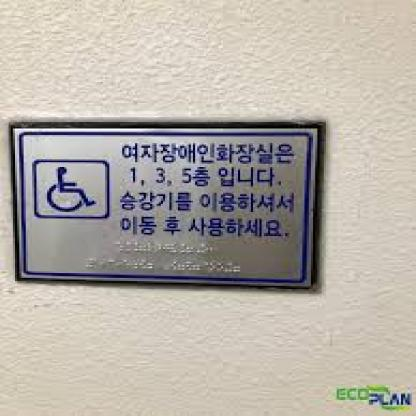toilet: (40, 164, 96, 212)
